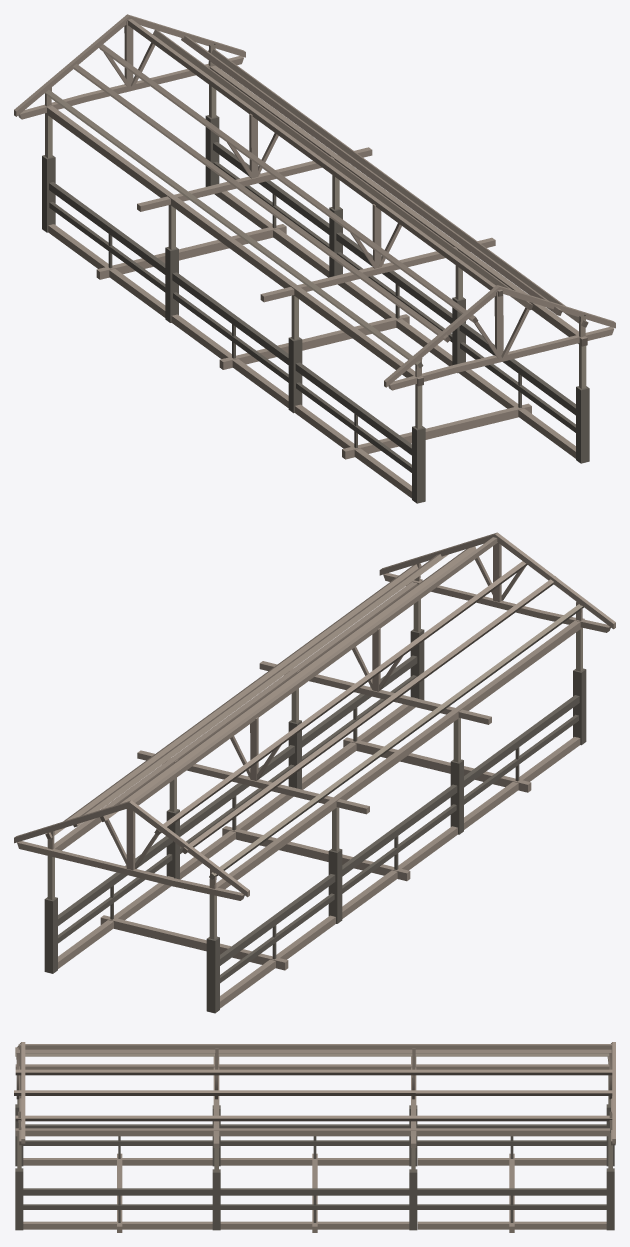
3 views of the same model, one above another, from view 1: azimuth 30°, elevation 25°; view 2: azimuth 150°, elevation 25°; view 3: azimuth 270°, elevation 25° (orthographic). The views are drawn at different scales.
Visible parts, largest first — view 1: G:\FFXIV-MapTools\exports\s1f3\bg\ffxiv\sea_s1\fld\s1f3\bgpa (×2); view 2: G:\FFXIV-MapTools\exports\s1f3\bg\ffxiv\sea_s1\fld\s1f3\bgpa (×2); view 3: G:\FFXIV-MapTools\exports\s1f3\bg\ffxiv\sea_s1\fld\s1f3\bgpa (×2).
Part boxes in pixels (left/top/right/bottom): G:\FFXIV-MapTools\exports\s1f3\bg\ffxiv\sea_s1\fld\s1f3\bgpa (×2): left=14, top=14, right=615, bottom=503; G:\FFXIV-MapTools\exports\s1f3\bg\ffxiv\sea_s1\fld\s1f3\bgpa (×2): left=14, top=532, right=615, bottom=1013; G:\FFXIV-MapTools\exports\s1f3\bg\ffxiv\sea_s1\fld\s1f3\bgpa (×2): left=14, top=1042, right=615, bottom=1232.
Bounding box in the file's own units: 9.82 × 7.8 × 27.5.
